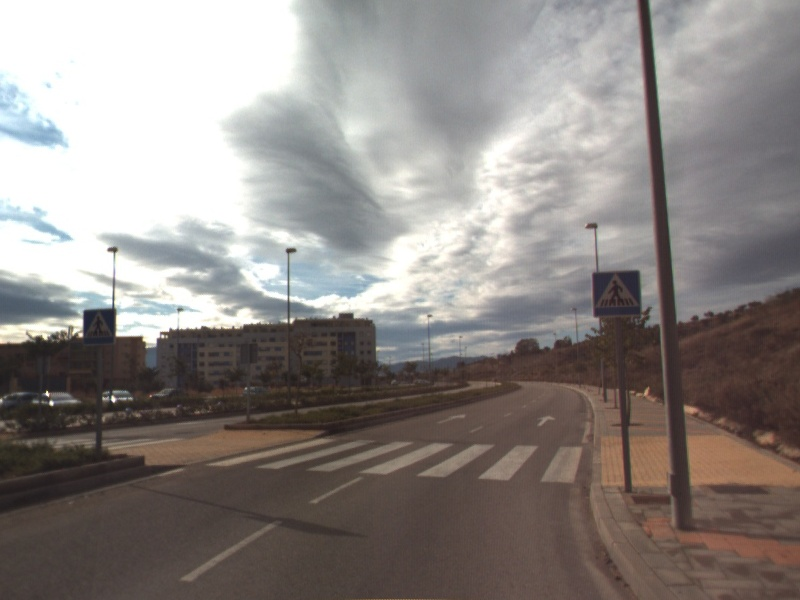STRAIGHT: (434, 411, 468, 426), (534, 413, 558, 428)
